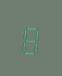eight: (19, 19, 40, 56)
